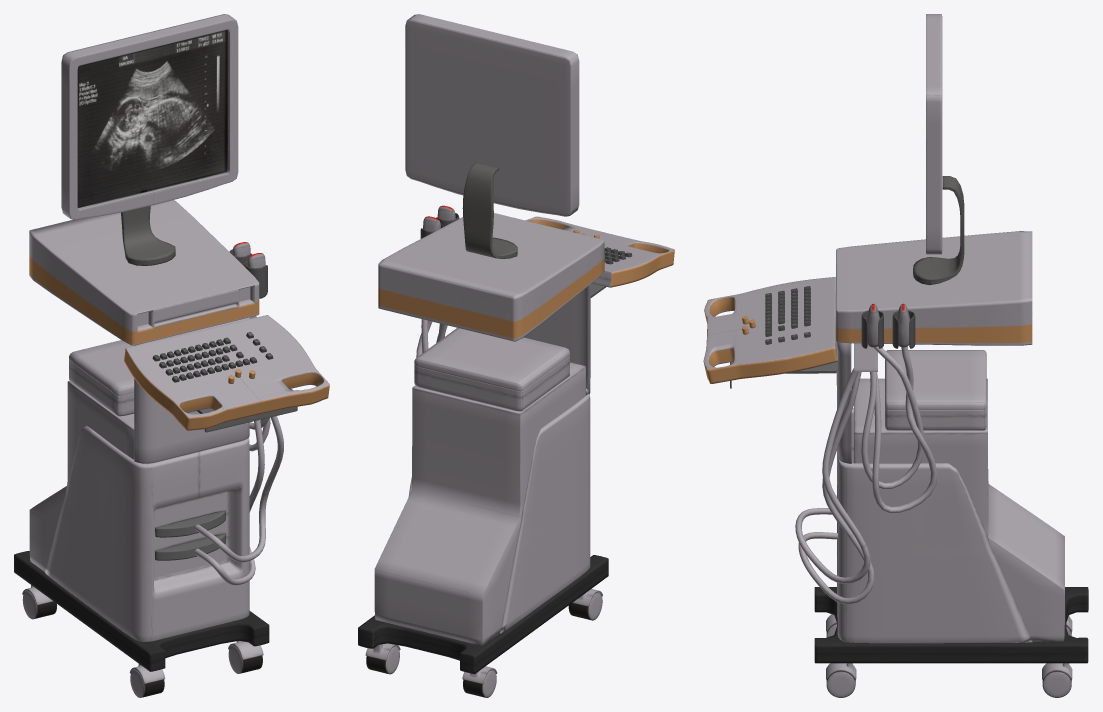
File: Ultrasound.fbx
3 renders of one model, left to right at view 1: azimuth 30°, elevation 25°; view 2: azimuth 150°, elevation 25°; view 3: azimuth 270°, elevation 25°, orthographic. The views are drawn at different scales.
Visible parts, largest first — view 1: Ultrasound; view 2: Ultrasound; view 3: Ultrasound.
Boxes of the visible parts, x1,y1,x2,y2 form: Ultrasound: (14, 14, 329, 697); Ultrasound: (358, 14, 674, 697); Ultrasound: (703, 14, 1088, 697).
Size of the model in its own units: 49.64 by 165 by 93.7.
Materials: 1 (1 with a texture image).
